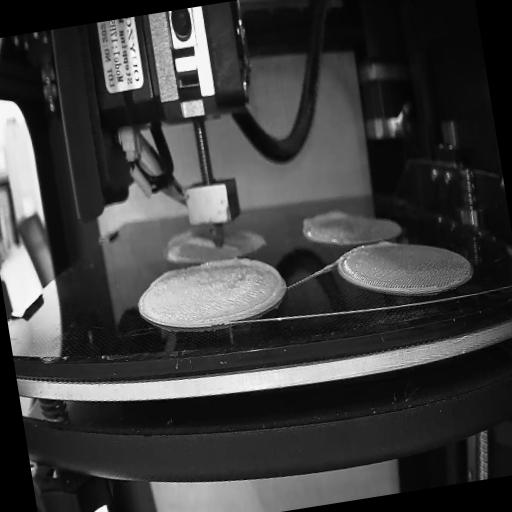over_extrusion: (196, 247, 288, 325), (299, 206, 352, 232), (150, 263, 186, 286), (182, 233, 213, 251), (370, 237, 398, 253), (220, 241, 237, 253)
